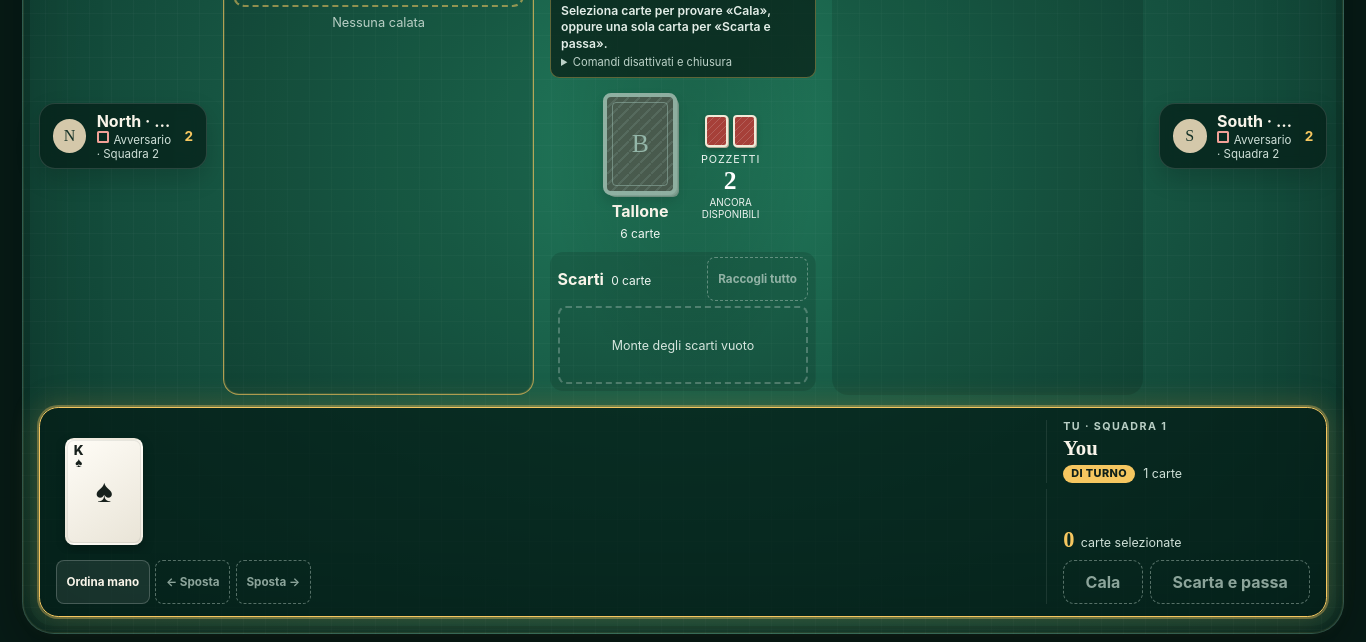
Test: GameTable contextual coach (M36) › keeps closure refusals on the engine error path
The image size is (1366, 642).
(page scrolled)
Click the button "K ♠ ♠" at (104, 491), box [65, 438, 143, 545]
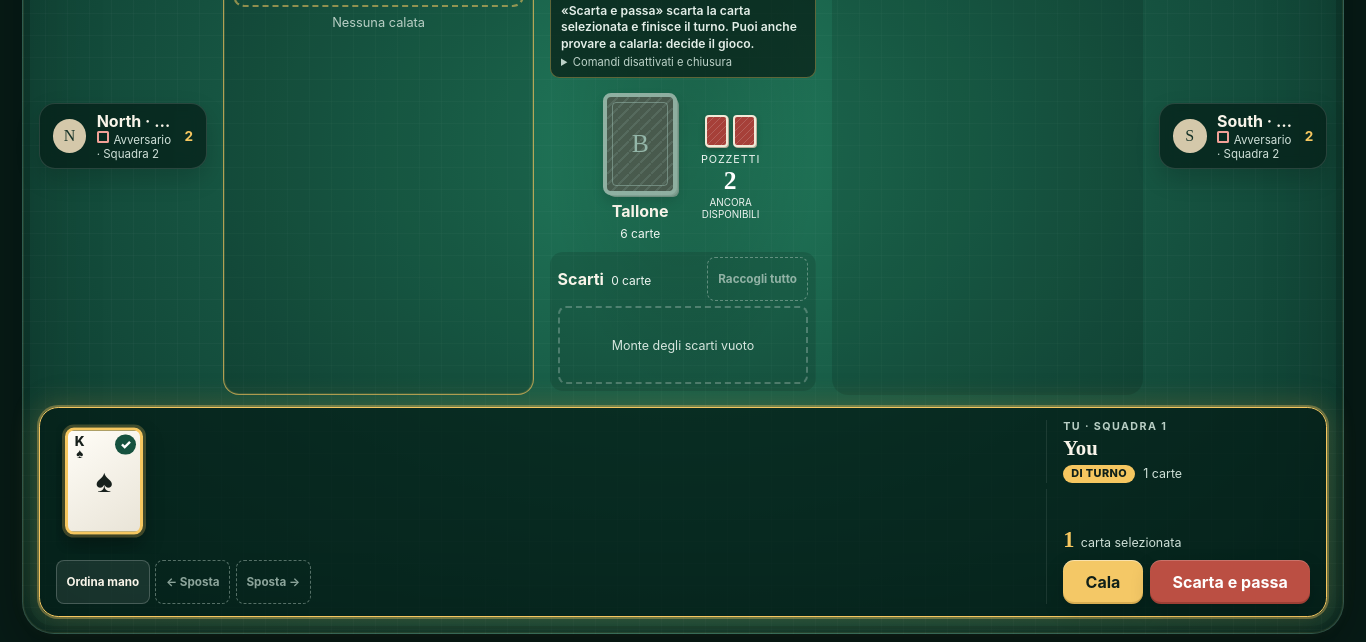
Click the button "Scarta e passa" at (1230, 582), box [1150, 560, 1310, 604]
(page scrolled)
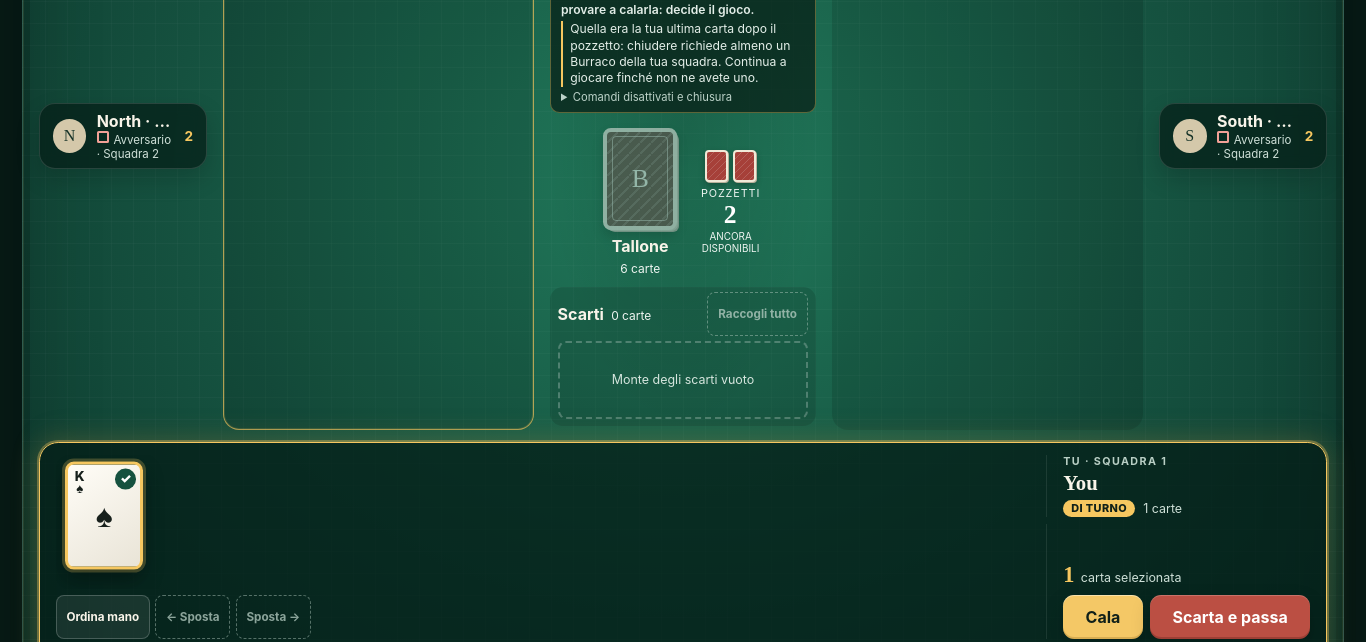
Check: the text with class "hand-count" reads "1 carte", box [1143, 501, 1182, 516]
Check: the element "Guida contestuale" shows "Quella era la tua ultima carta dopo il pozzetto: chiudere richiede almeno un Burraco della tua squadra. Continua a giocare finché non ne avete uno.", box [570, 21, 790, 85]
